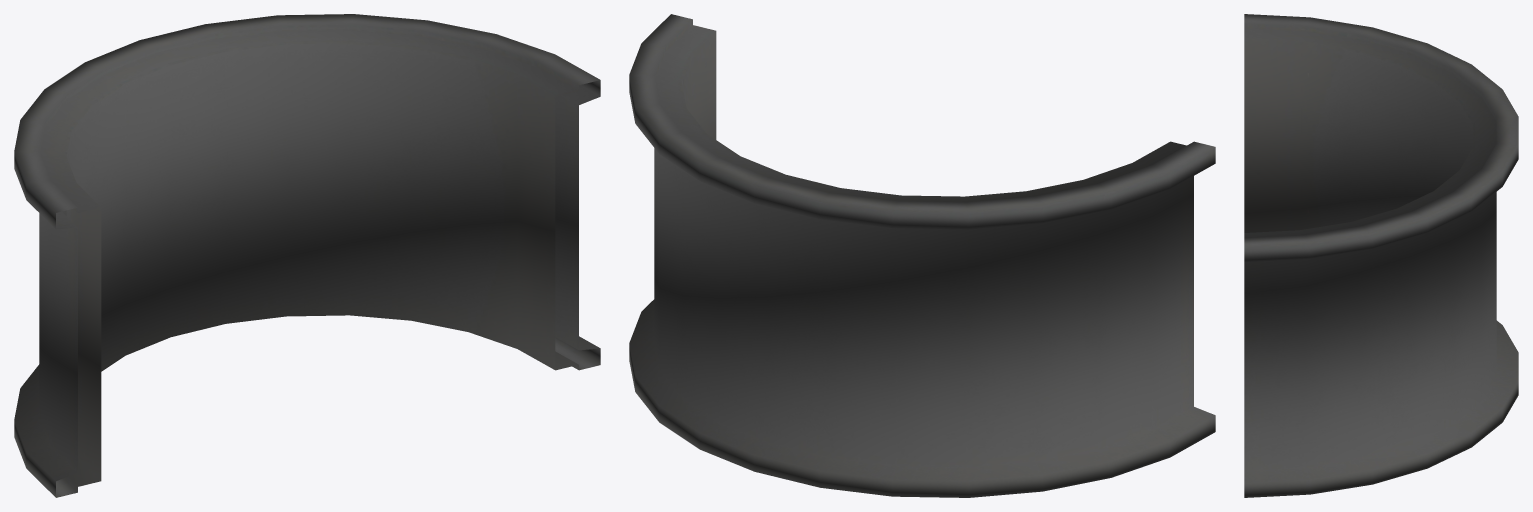
The model's file is industrial-portal-unit-tripo-original.glb.
3 views of the same model, side by side, from view 1: azimuth 30°, elevation 25°; view 2: azimuth 150°, elevation 25°; view 3: azimuth 270°, elevation 25° (orthographic). The views are drawn at different scales.
Visible parts, largest first — view 1: Authored_surface; view 2: Authored_surface; view 3: Authored_surface.
Part boxes in pixels (box(x1,y1,x2,y2)): Authored_surface: box(14, 14, 600, 497); Authored_surface: box(629, 14, 1215, 497); Authored_surface: box(1244, 14, 1518, 497).
Size of the model in its own units: 1 by 0.5 by 0.4964.
Materials: 1 (1 with a texture image).
